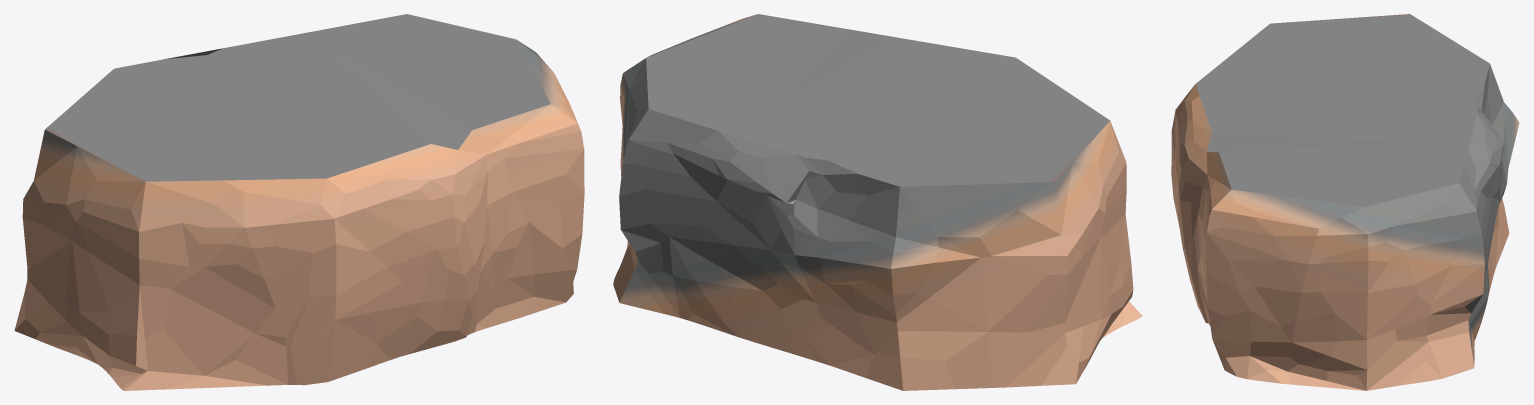
File: SM_Cliff1_LO0UV.fbx
3 renders of one model, left to right at view 1: azimuth 30°, elevation 25°; view 2: azimuth 150°, elevation 25°; view 3: azimuth 270°, elevation 25°, orthographic. The views are drawn at different scales.
Visible parts, largest first — view 1: SM_Cliff1_LOD0; view 2: SM_Cliff1_LOD0; view 3: SM_Cliff1_LOD0.
Boxes of the visible parts, bbox=[...] form: SM_Cliff1_LOD0: bbox=[14, 14, 584, 390]; SM_Cliff1_LOD0: bbox=[613, 14, 1142, 390]; SM_Cliff1_LOD0: bbox=[1171, 14, 1519, 390].
Size of the model in its own units: 16.91 by 6.45 by 11.57.
